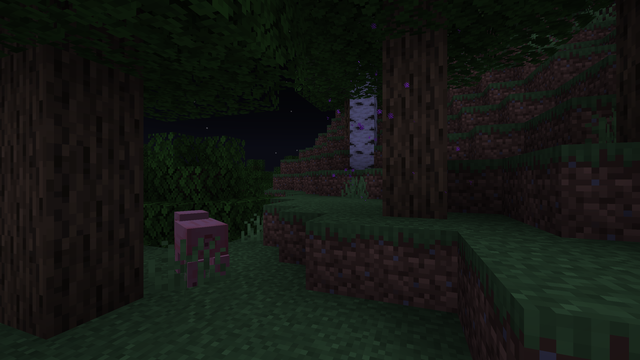cochons: (157, 216, 237, 285)
